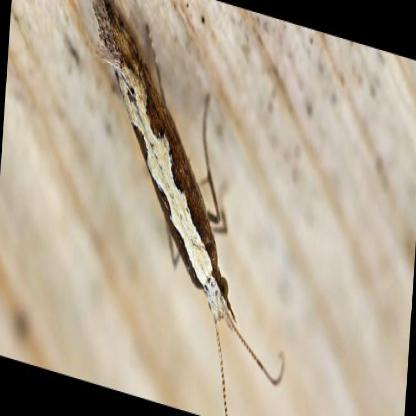plutella: (93, 5, 236, 335)
